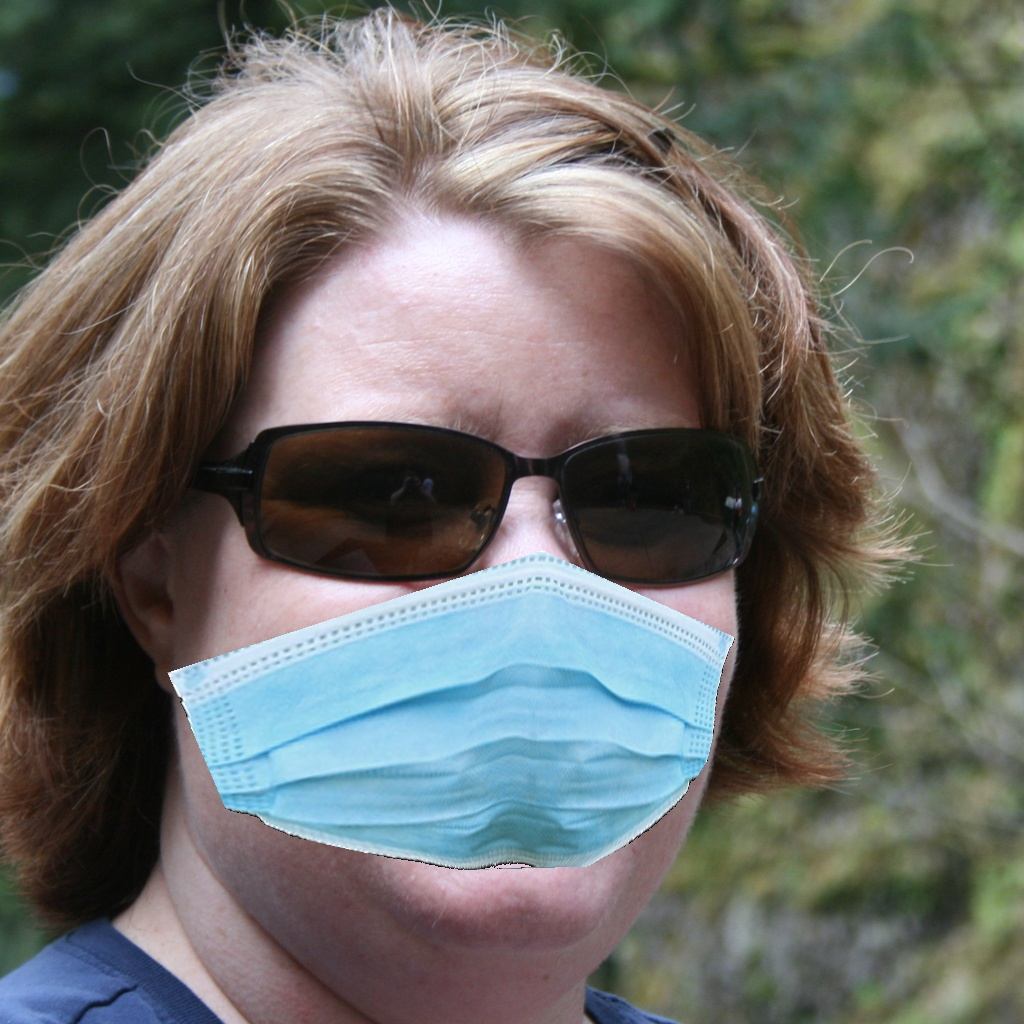mascarilla_mal_puesta: (164, 368, 729, 978)
